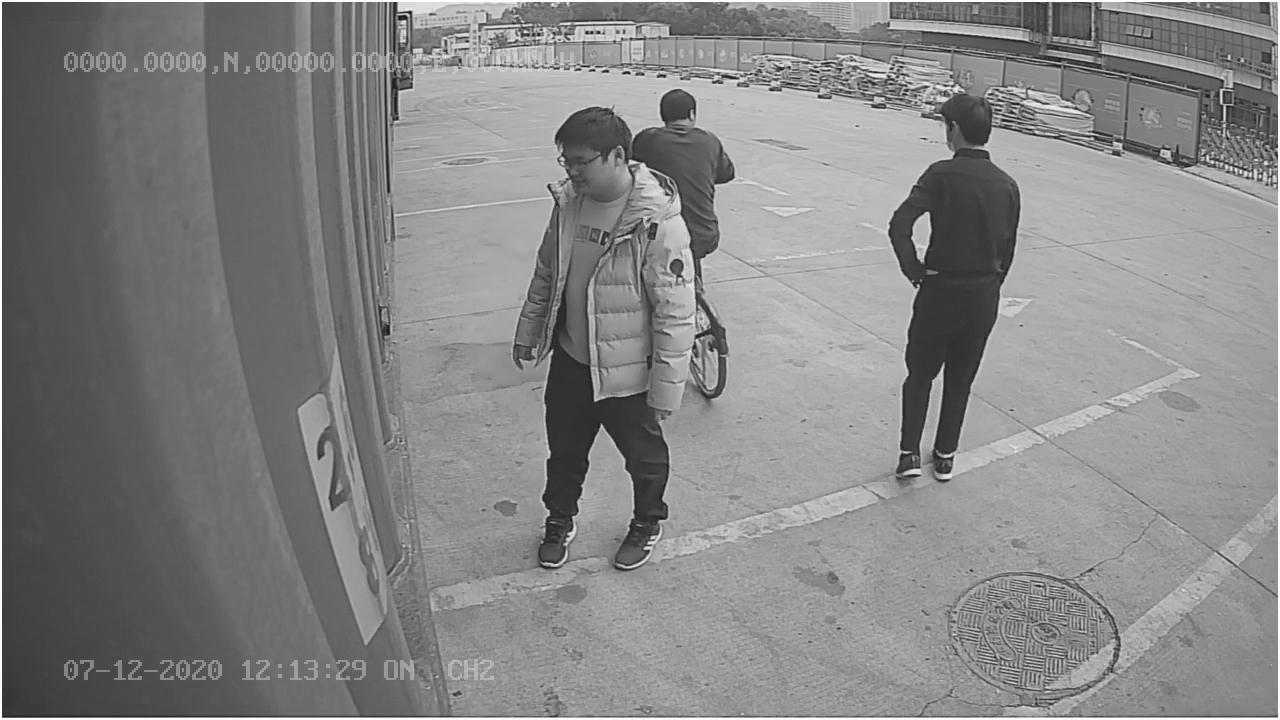person: (884, 95, 1025, 482)
